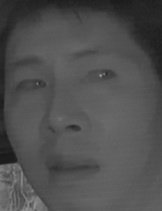eye: (82, 63, 121, 89), (12, 74, 49, 97)
mouth: (42, 150, 105, 184)
